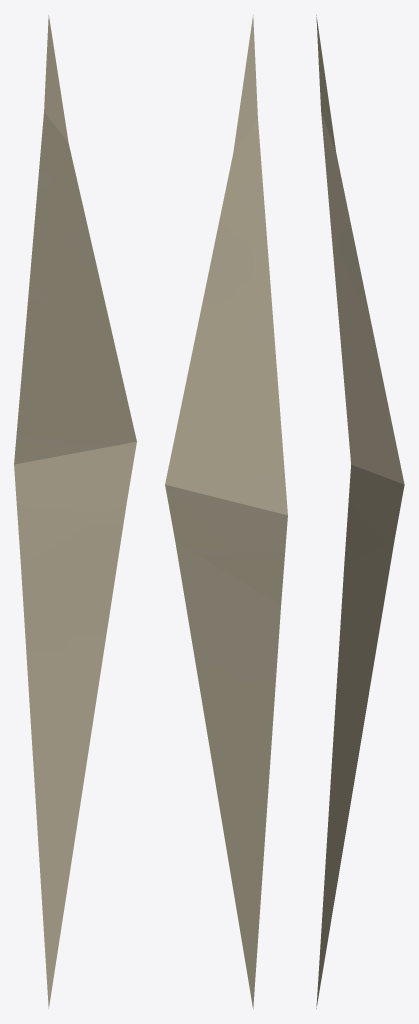
The picture shows the model from 3 angles, left to right: view 1: azimuth 30°, elevation 25°; view 2: azimuth 210°, elevation 25°; view 3: azimuth 330°, elevation 25°; orthographic projection.
Bounding box in the file's own units: 0.0167 × 0.1802 × 0.0114.
1 material, 1 textured.
